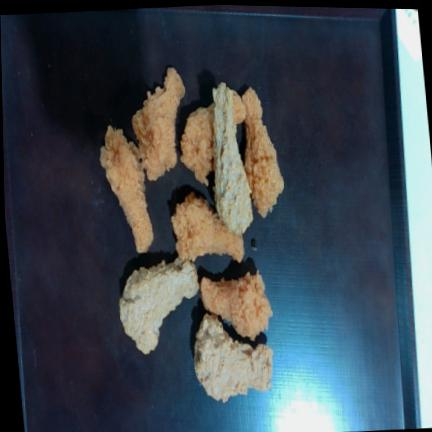chicken: (119, 257, 198, 353), (194, 313, 273, 402), (100, 125, 153, 252), (212, 82, 253, 234), (132, 67, 184, 179), (242, 86, 283, 216), (171, 191, 244, 261), (200, 270, 272, 340)
